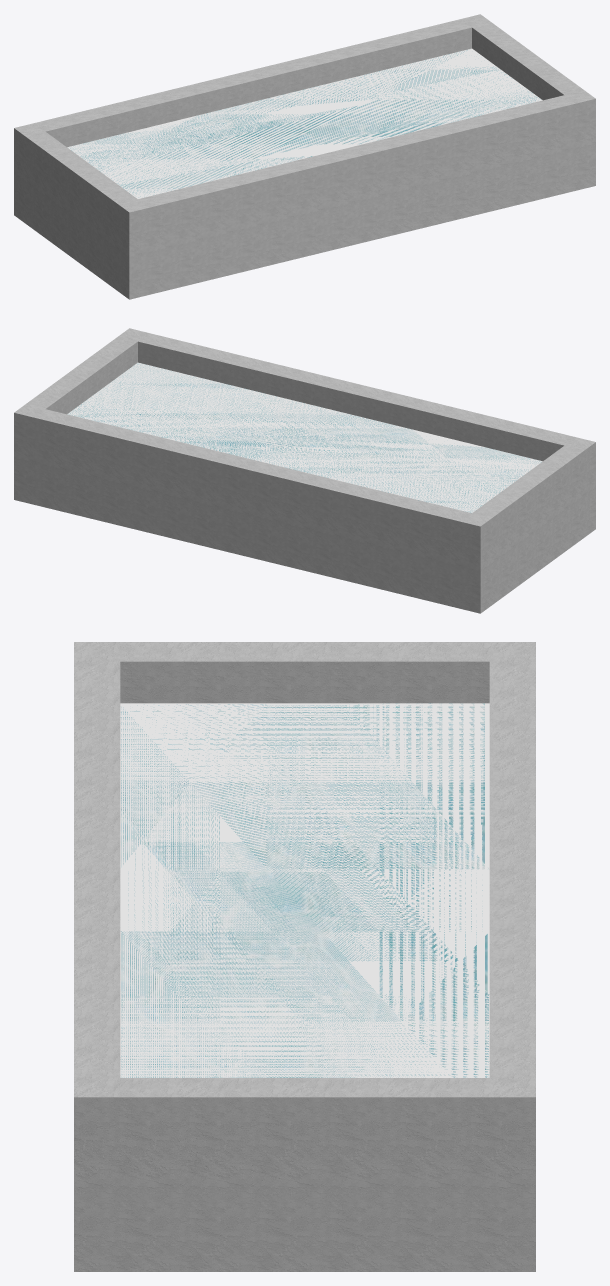
The model's file is piscine2.dae.
3 views of the same model, one above another, from view 1: azimuth 30°, elevation 25°; view 2: azimuth 150°, elevation 25°; view 3: azimuth 270°, elevation 25° (orthographic). The views are drawn at different scales.
Visible parts, largest first — view 1: group_0 (×2), SketchUp; view 2: group_0 (×2), SketchUp; view 3: group_0 (×2), SketchUp.
Part boxes in pixels (box(x1,y1,x2,y2)): group_0 (×2): box(14, 14, 595, 299); SketchUp: box(67, 48, 542, 198); group_0 (×2): box(14, 328, 595, 613); SketchUp: box(67, 362, 542, 512); group_0 (×2): box(74, 642, 535, 1271); SketchUp: box(120, 703, 489, 1077).
Size of the model in its own units: 276 by 118 by 49.21.
3 materials, 2 textured.
